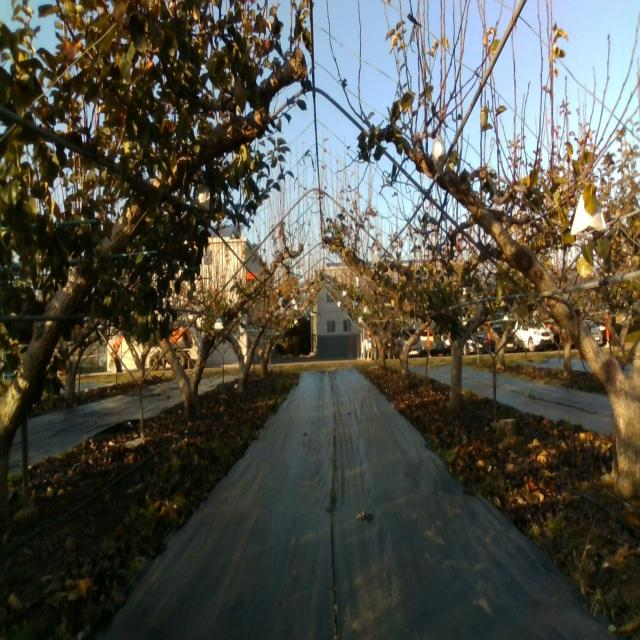pearbags: (570, 195, 608, 237), (192, 179, 210, 211), (432, 135, 446, 175)
